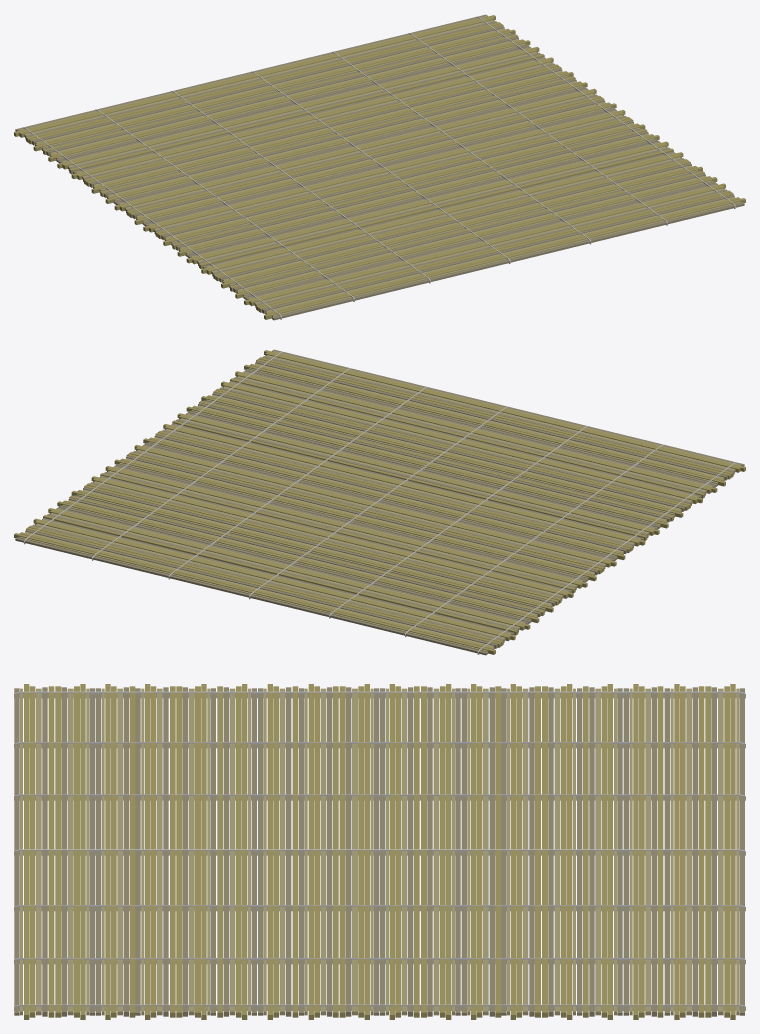
The model's file is Shop_Mat.fbx.
The picture shows the model from 3 angles, top to bottom: view 1: azimuth 30°, elevation 25°; view 2: azimuth 150°, elevation 25°; view 3: azimuth 270°, elevation 25°; orthographic projection. The views are drawn at different scales.
Parts seen in each view (by area): view 1: Shop_Mat; view 2: Shop_Mat; view 3: Shop_Mat.
Boxes of the visible parts, x1=… form: Shop_Mat: x1=14, y1=14, x2=745, y2=320; Shop_Mat: x1=14, y1=349, x2=745, y2=655; Shop_Mat: x1=14, y1=684, x2=745, y2=1019.
Size of the model in its own units: 135 by 1.13 by 126.
